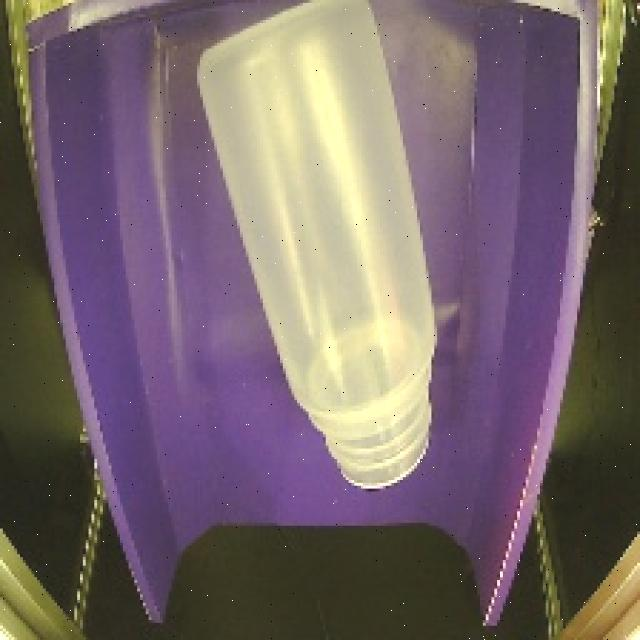plastic: (180, 0, 453, 508)
